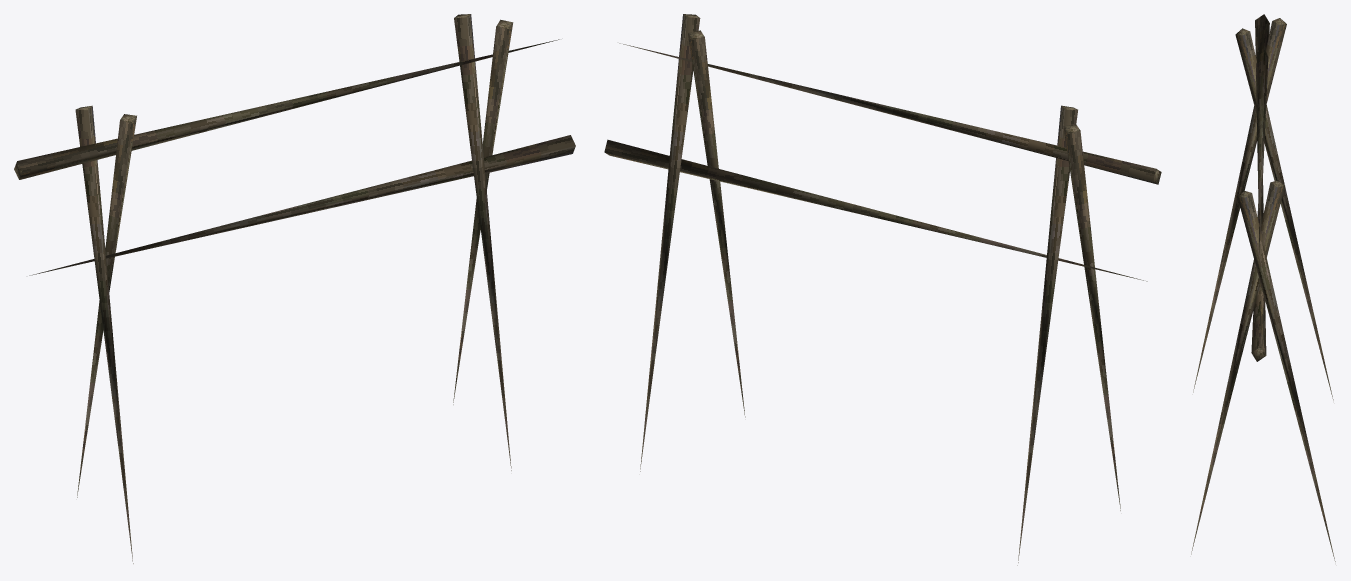
Rendered from thm_dant_fence_4m_l4.fbx.
3 views of the same model, side by side, from view 1: azimuth 30°, elevation 25°; view 2: azimuth 150°, elevation 25°; view 3: azimuth 270°, elevation 25° (orthographic). The views are drawn at different scales.
Visible parts, largest first — view 1: mesh_node; view 2: mesh_node; view 3: mesh_node.
Part boxes in pixels (left/top/right/bottom): mesh_node: left=14, top=14, right=575, bottom=563; mesh_node: left=604, top=14, right=1161, bottom=565; mesh_node: left=1191, top=14, right=1335, bottom=561.
Size of the model in its own units: 3.97 by 2.93 by 1.03.
